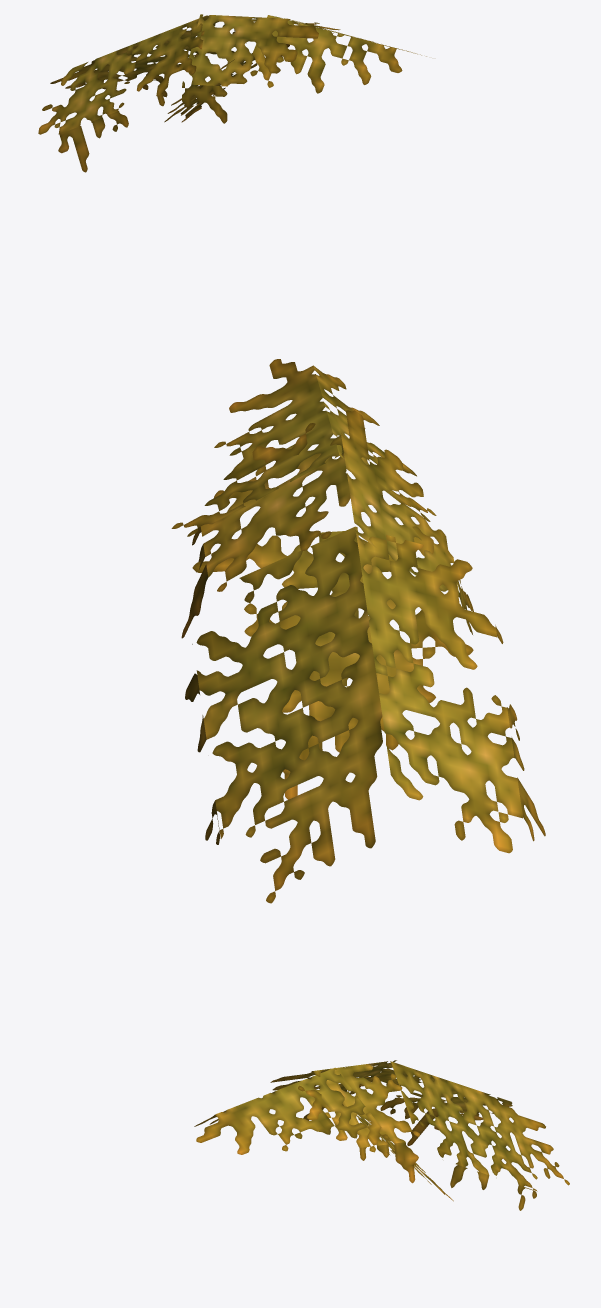
Rendered from larch_leaves_slab_diagonal_2.obj.
The picture shows the model from 3 angles, top to bottom: view 1: azimuth 30°, elevation 25°; view 2: azimuth 150°, elevation 25°; view 3: azimuth 270°, elevation 25°; orthographic projection. The views are drawn at different scales.
Visible parts, largest first — view 1: plane, cube; view 2: plane, cube; view 3: plane, cube.
Part boxes in pixels (<box>): plane: <box>38,14,426,172</box>; cube: <box>164,53,257,122</box>; plane: <box>171,359,545,903</box>; cube: <box>192,526,473,799</box>; plane: <box>194,1060,569,1210</box>; cube: <box>356,1114,453,1201</box>.
Bounding box in the file's own units: 2.58 × 1.34 × 2.83.
